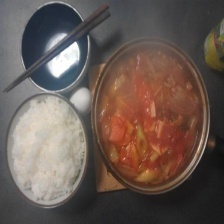rice: (5, 93, 89, 208)
